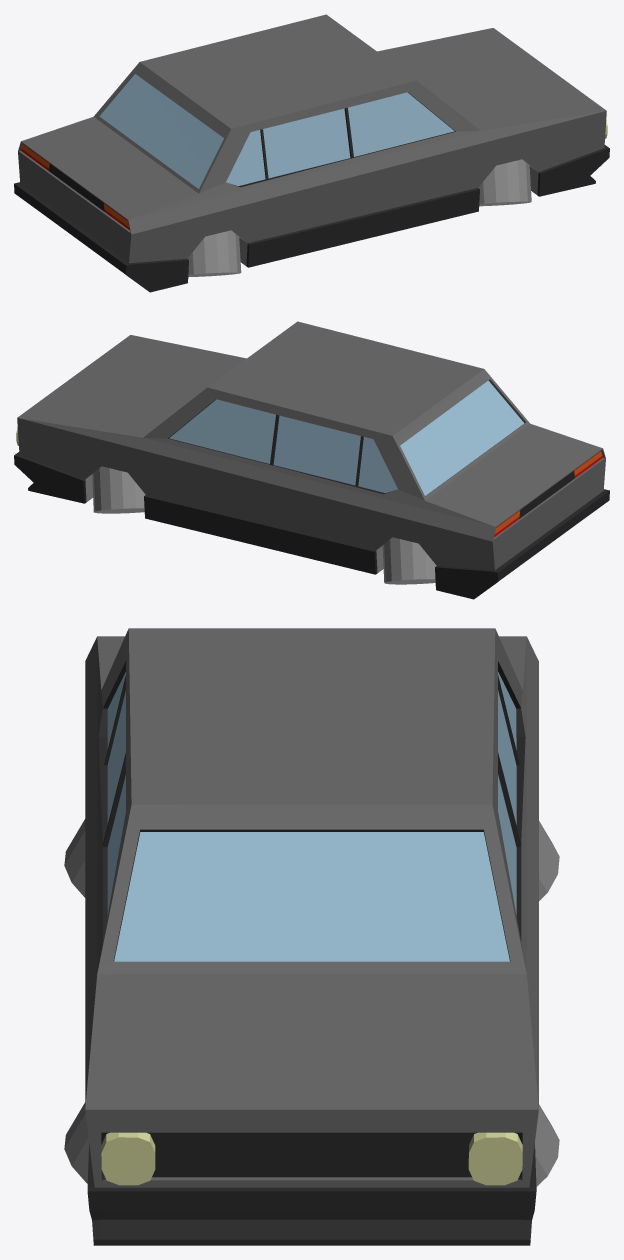
File: Car_Sedan.fbx
3 renders of one model, top to bottom at view 1: azimuth 30°, elevation 25°; view 2: azimuth 150°, elevation 25°; view 3: azimuth 270°, elevation 25°, orthographic. The views are drawn at different scales.
Parts seen in each view (by area): view 1: Cube.001; view 2: Cube.001; view 3: Cube.001.
Part boxes in pixels (box(x1,y1,x2,y2)): Cube.001: box(14, 14, 609, 292); Cube.001: box(14, 321, 609, 599); Cube.001: box(64, 628, 559, 1245).
Size of the model in its own units: 651 by 200 by 288.
